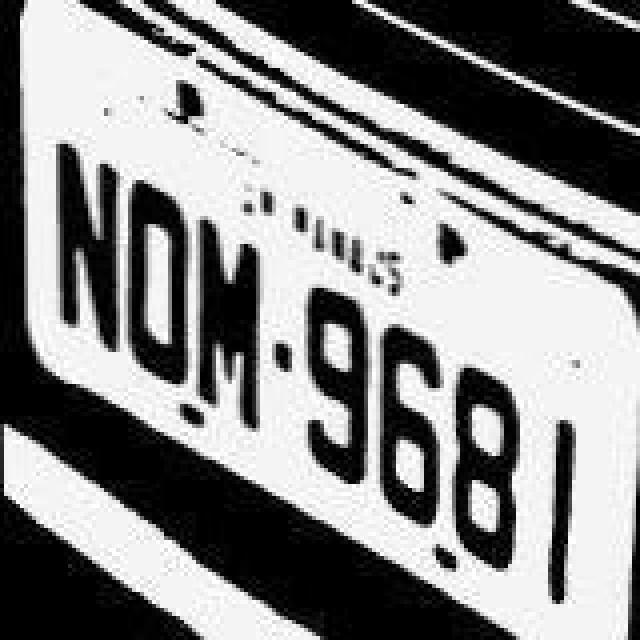1: (534, 324, 606, 612)
6: (368, 266, 452, 550)
8: (444, 286, 528, 578)
9: (298, 246, 378, 530)
M: (186, 188, 266, 484)
N: (42, 122, 122, 398)
O: (114, 164, 194, 460)
